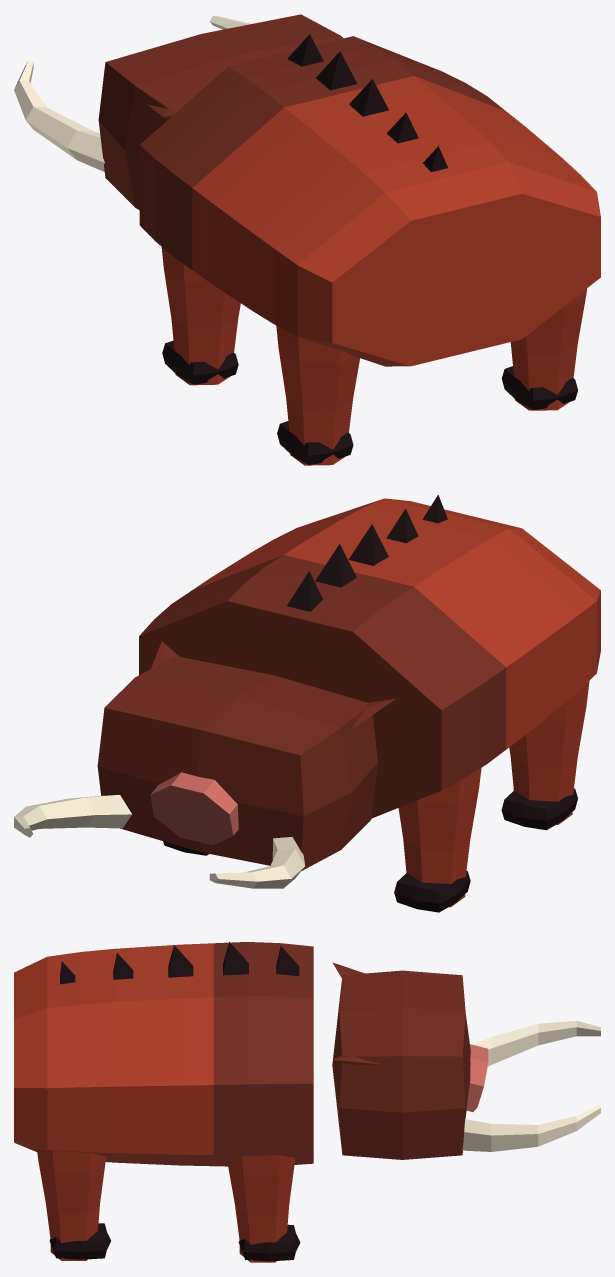
File: boar.glb
3 views of the same model, one above another, from view 1: azimuth 30°, elevation 25°; view 2: azimuth 150°, elevation 25°; view 3: azimuth 270°, elevation 25° (orthographic). The views are drawn at different scales.
Parts seen in each view (by area): view 1: boarBody, legBackLeft, legFrontLeft, legBackRight; view 2: boarBody, legFrontLeft, legBackLeft; view 3: boarBody, legBackRight, legFrontRight.
Part boxes in pixels (left/top/right/bottom): boarBody: left=14, top=14, right=600, bottom=366; legBackLeft: left=276, top=326, right=359, bottom=465; legFrontLeft: left=161, top=247, right=240, bottom=385; legBackRight: left=501, top=288, right=586, bottom=410; boarBody: left=14, top=495, right=600, bottom=888; legFrontLeft: left=394, top=768, right=481, bottom=912; legBackLeft: left=501, top=681, right=589, bottom=830; boarBody: left=14, top=942, right=600, bottom=1166; legBackRight: left=36, top=1148, right=110, bottom=1260; legFrontRight: left=227, top=1155, right=300, bottom=1262.
Size of the model in its own units: 0.6612 by 0.622 by 1.25.
